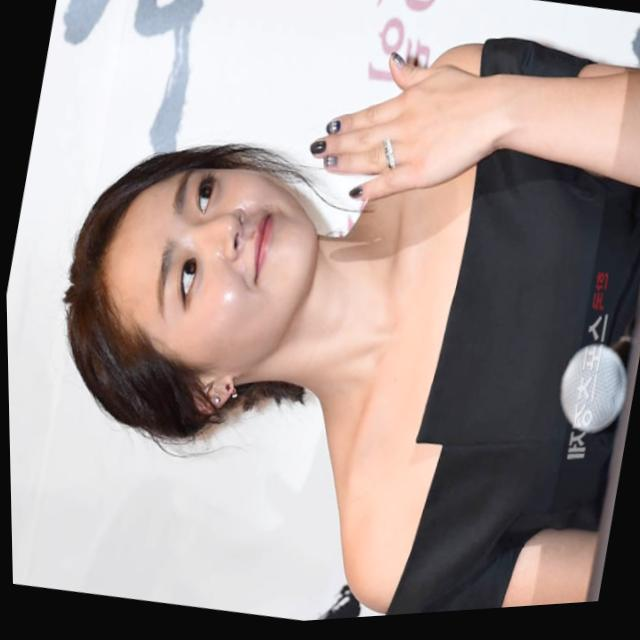face: (82, 140, 333, 415)
